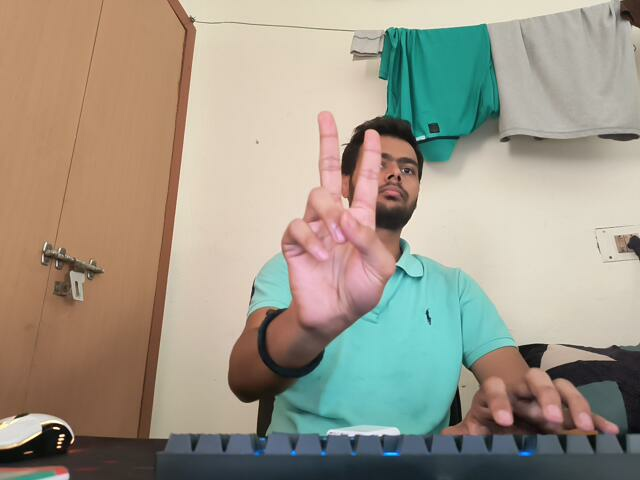ll4: (281, 109, 398, 336)
